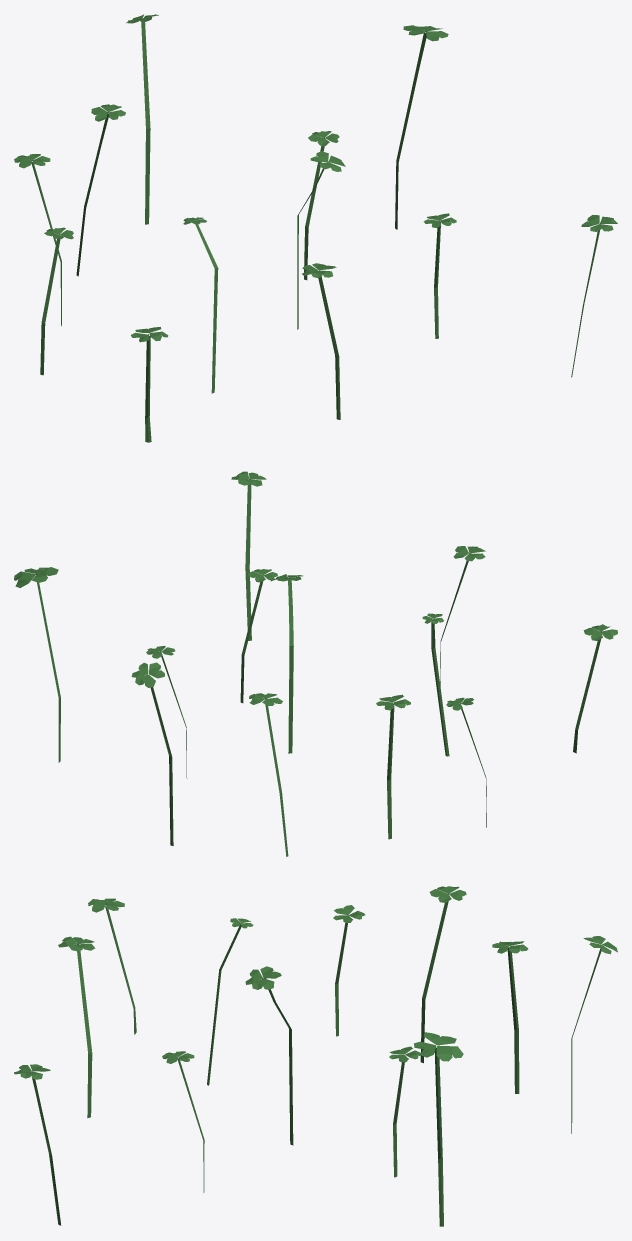
File: threeleaf01.gltf
3 views of the same model, one above another, from view 1: azimuth 30°, elevation 25°; view 2: azimuth 150°, elevation 25°; view 3: azimuth 270°, elevation 25° (orthographic). The views are drawn at different scales.
Parts seen in each view (by area): view 1: Plane.002; view 2: Plane.002; view 3: Plane.002.
Boxes of the visible parts, x1,y1,x2,y2 form: Plane.002: (14, 14, 617, 442); Plane.002: (14, 471, 617, 856); Plane.002: (14, 886, 617, 1226).
Bounding box in the file's own units: 0.6257 × 0.2628 × 0.6813.
Materials: 1 (1 with a texture image).
